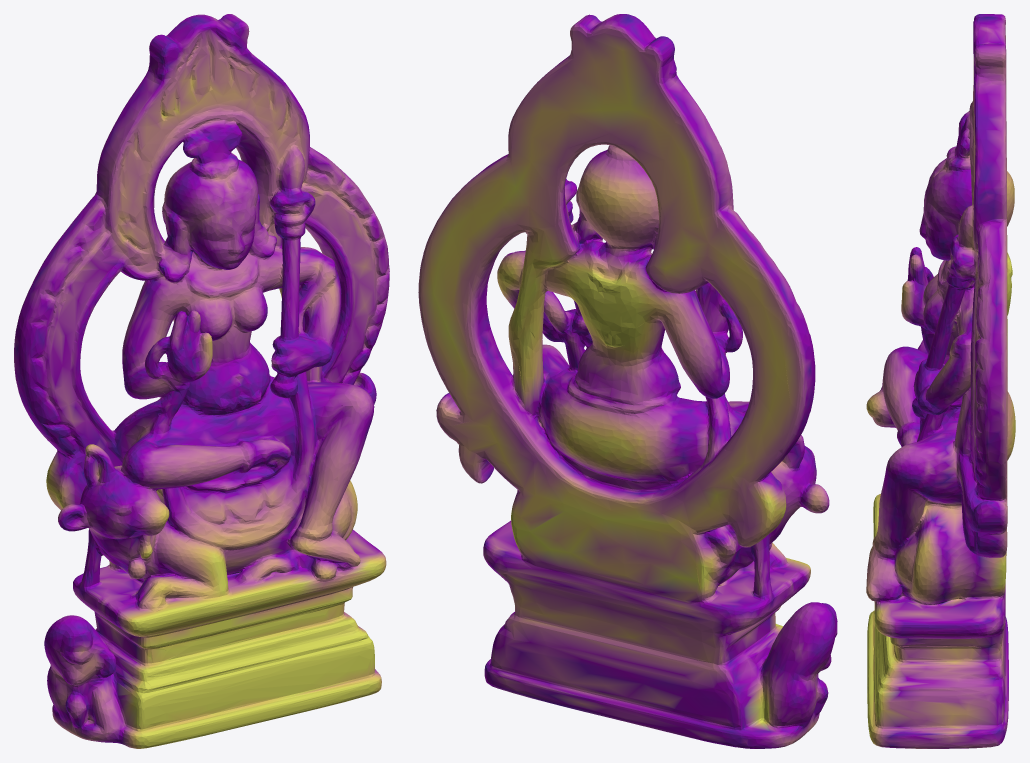
The model's file is iter_8.glb.
3 views of the same model, side by side, from view 1: azimuth 30°, elevation 25°; view 2: azimuth 150°, elevation 25°; view 3: azimuth 270°, elevation 25° (orthographic). The views are drawn at different scales.
Visible parts, largest first — view 1: textured_mesh; view 2: textured_mesh; view 3: textured_mesh.
Part boxes in pixels (<box>): textured_mesh: <box>14,14,389,748</box>; textured_mesh: <box>418,14,837,748</box>; textured_mesh: <box>866,14,1015,748</box>.
Size of the model in its own units: 1.16 by 1.99 by 0.4037.
